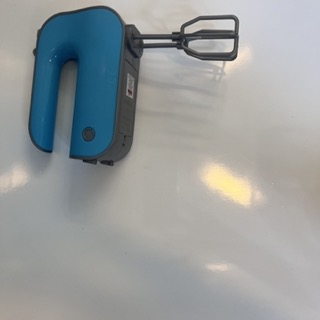mixer: (30, 5, 239, 167)
